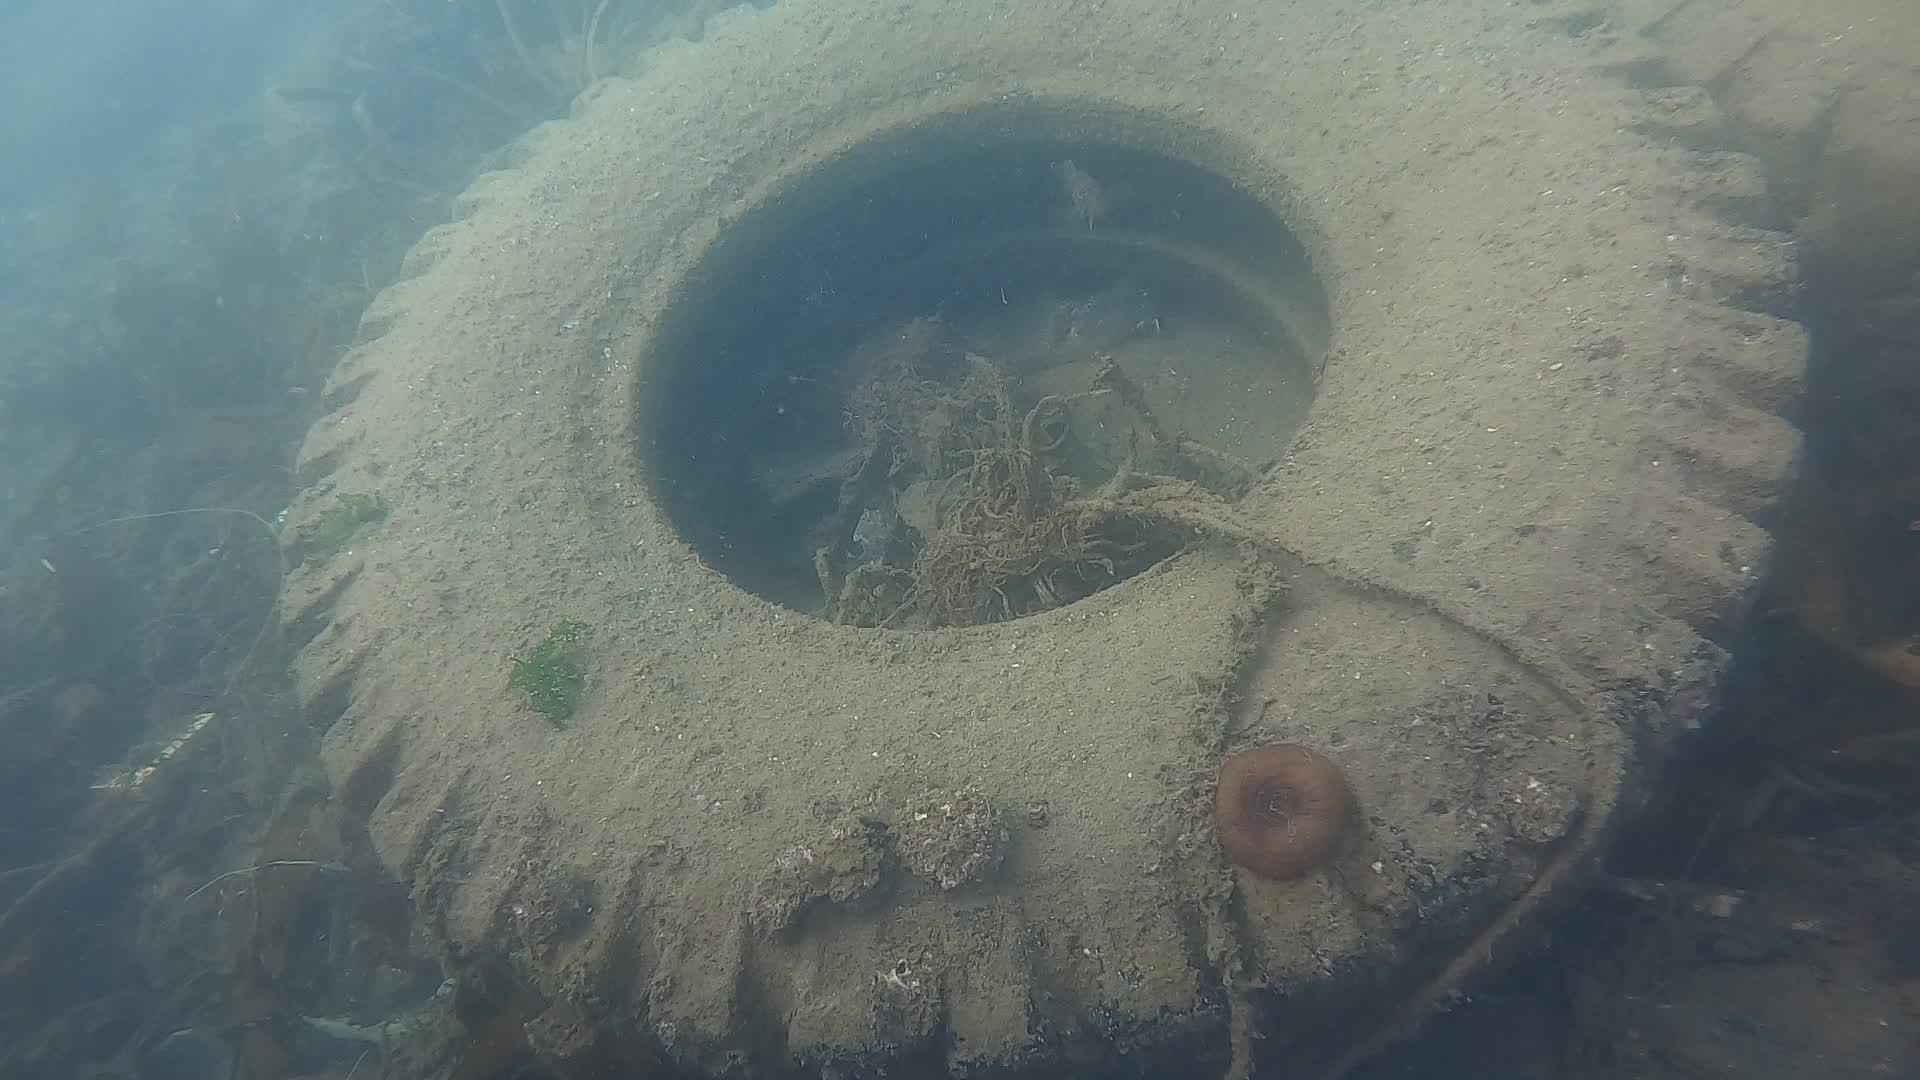bundle of ropes: (1120, 464, 1639, 1080)
tire: (269, 0, 1813, 1080)
